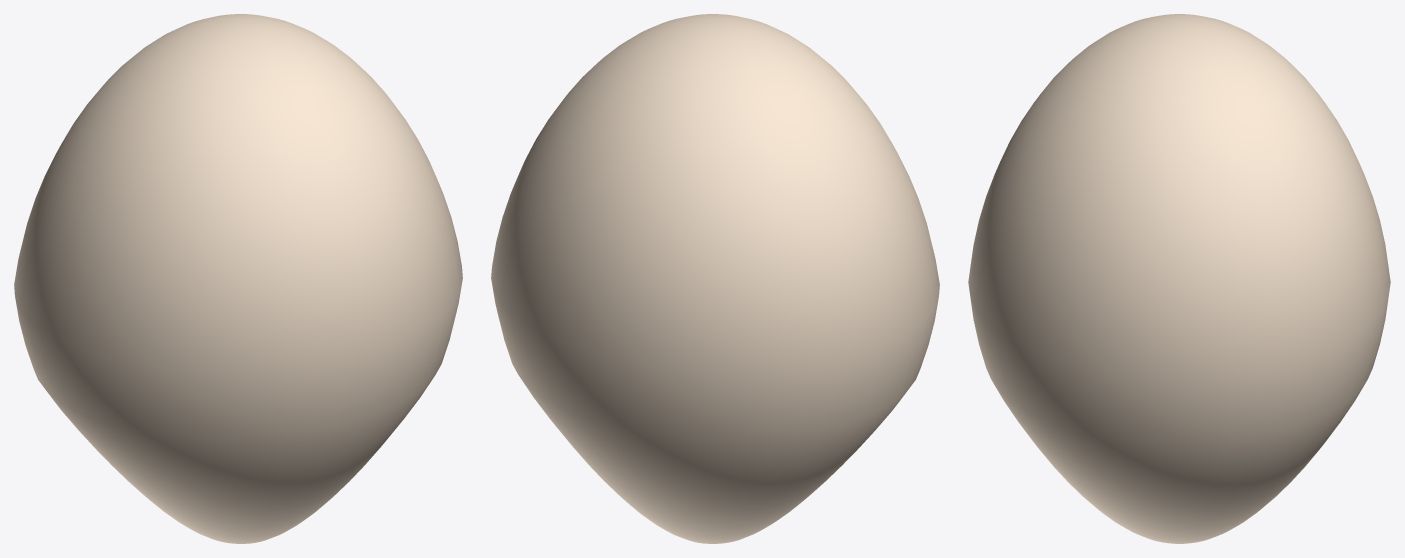
The model's file is avatar.glb.
The picture shows the model from 3 angles, left to right: view 1: azimuth 30°, elevation 25°; view 2: azimuth 150°, elevation 25°; view 3: azimuth 270°, elevation 25°; orthographic projection.
Parts seen in each view (by area): view 1: Head; view 2: Head; view 3: Head.
Boxes of the visible parts, <box> form: Head: <box>14,14,462,543</box>; Head: <box>491,14,939,543</box>; Head: <box>968,14,1390,543</box>.
Bounding box in the file's own units: 1.56 × 1.92 × 1.44.
